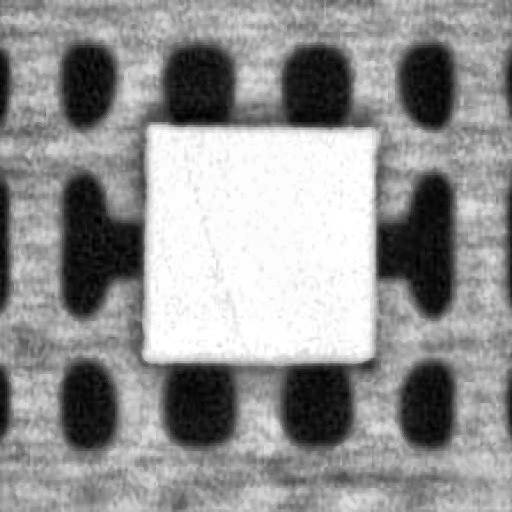DIE_CRACK: (191, 172, 243, 353)
